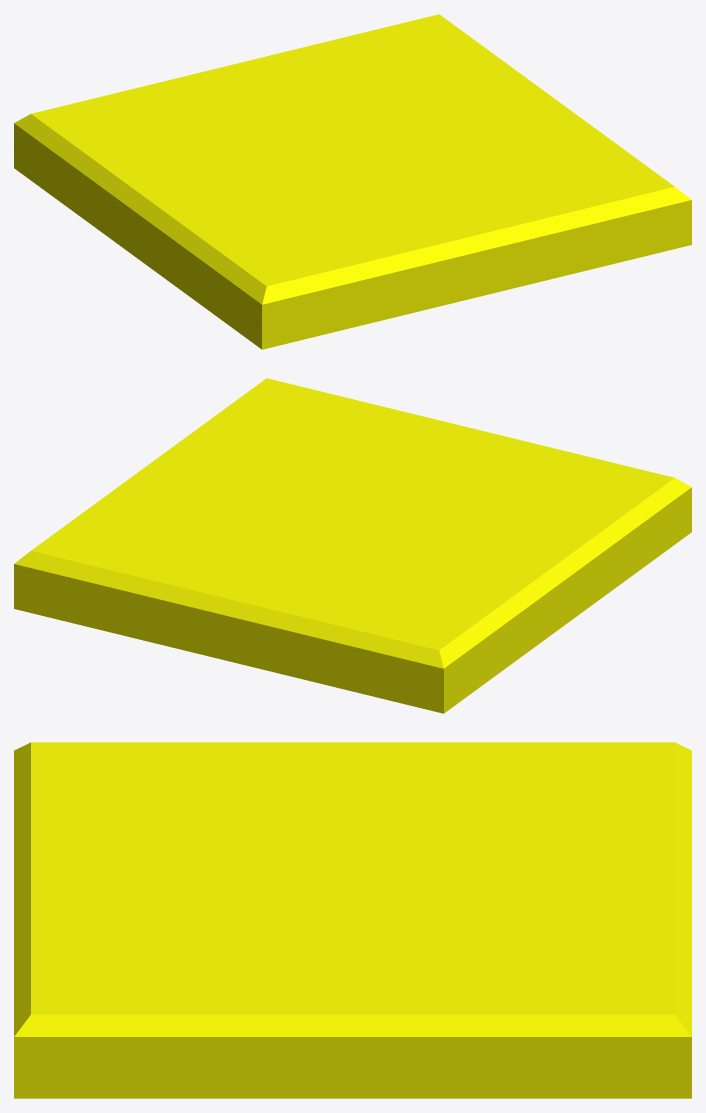
File: kaykit-floor.glb
The picture shows the model from 3 angles, top to bottom: view 1: azimuth 30°, elevation 25°; view 2: azimuth 150°, elevation 25°; view 3: azimuth 270°, elevation 25°; orthographic projection. The views are drawn at different scales.
Visible parts, largest first — view 1: Floor; view 2: Floor; view 3: Floor.
Part boxes in pixels (bbox=[...]): Floor: bbox=[14, 14, 691, 349]; Floor: bbox=[14, 378, 691, 713]; Floor: bbox=[14, 742, 691, 1098].
Bounding box in the file's own units: 4 × 0.5 × 4.
